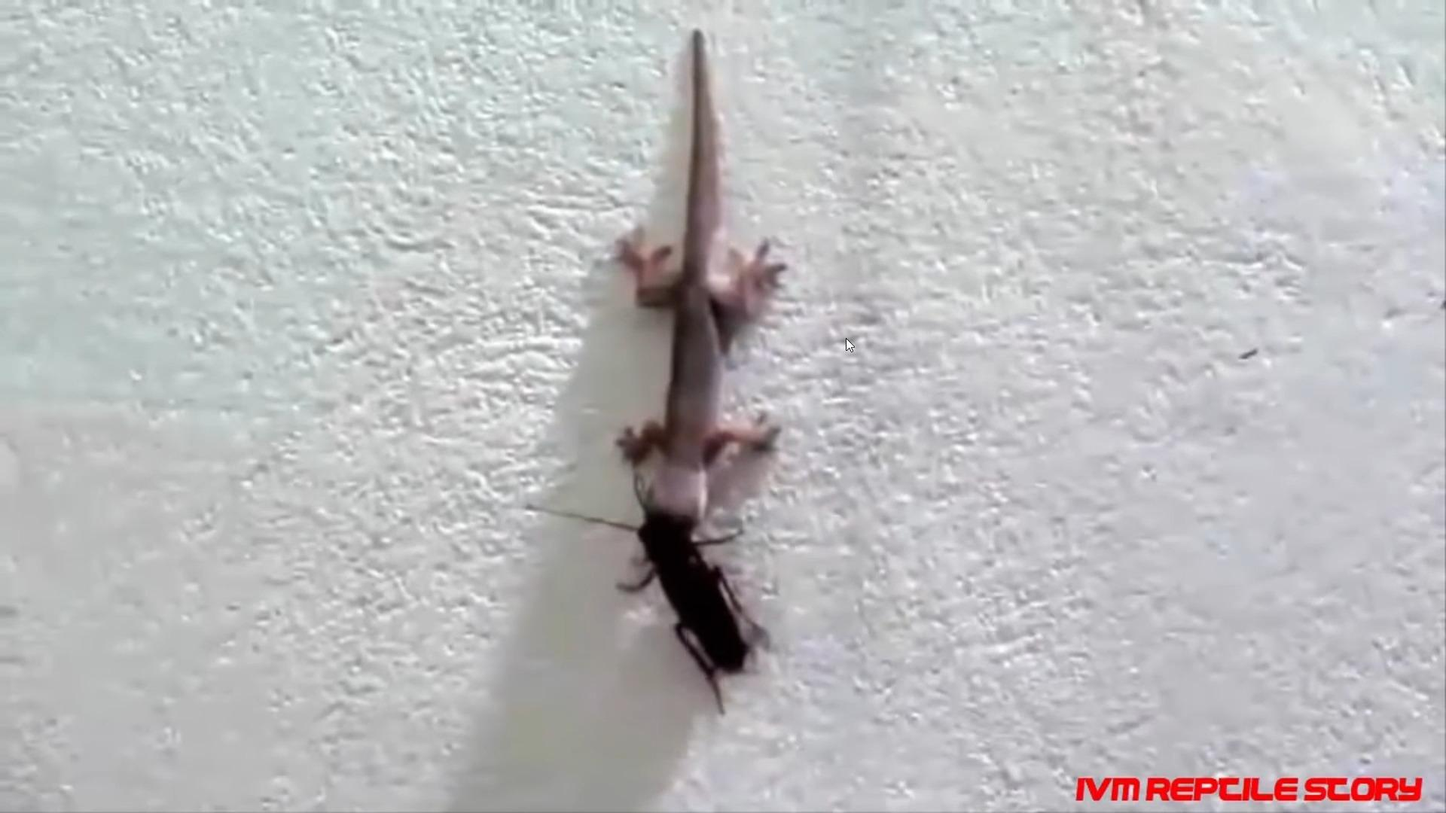cockroach: (633, 518, 755, 691)
lizard: (606, 66, 785, 522)
